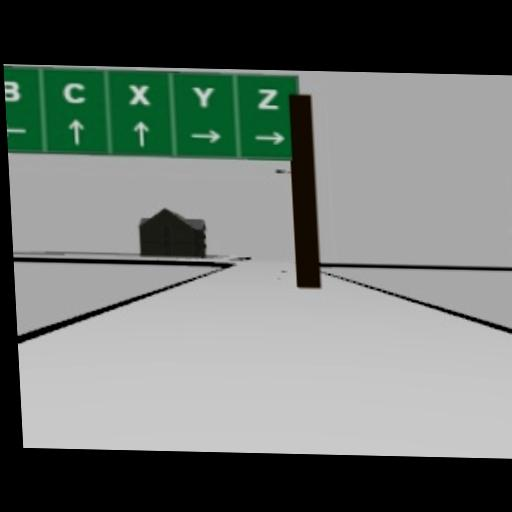B: (4, 80, 19, 102)
C: (61, 82, 85, 103)
Left: (7, 123, 29, 137)
Right: (189, 129, 222, 144), (253, 130, 284, 145)
Straight: (66, 117, 83, 144), (132, 120, 149, 146)
X: (127, 83, 151, 105)
Y: (191, 86, 215, 107)
Z: (255, 87, 279, 109)
